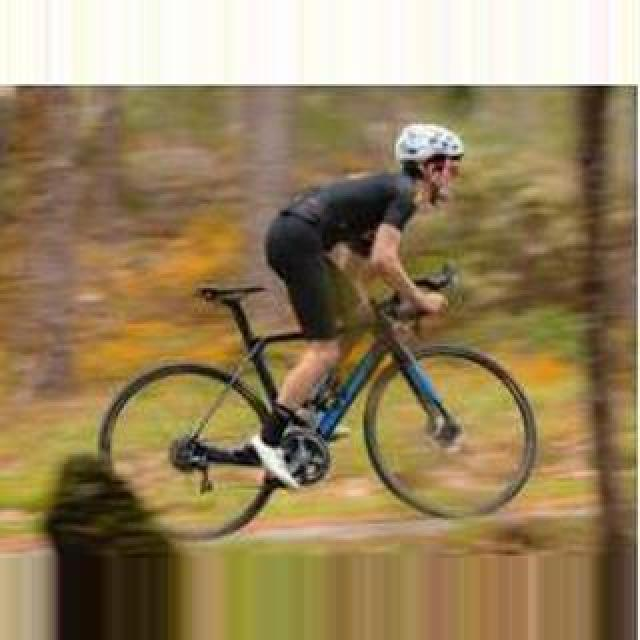MC-Bike: (256, 126, 470, 484)
Person: (97, 264, 543, 544)
